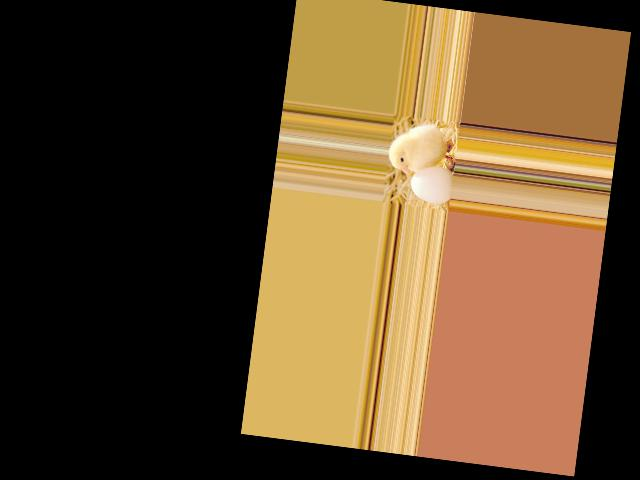egg: (408, 163, 455, 205)
